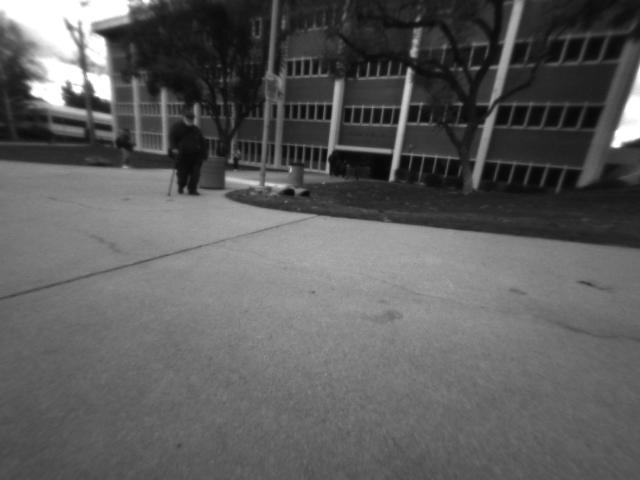trashcan: (199, 149, 231, 195), (284, 158, 308, 189)
